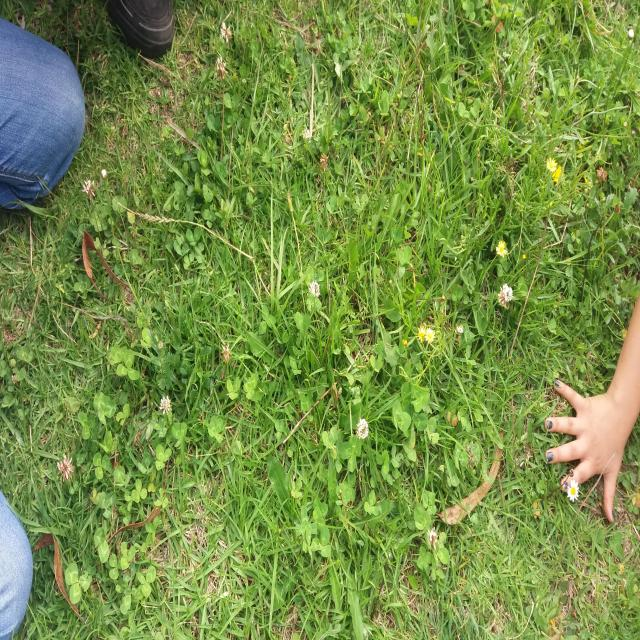Four Leaf Clover: (302, 525, 322, 559), (417, 546, 433, 576), (89, 209, 108, 232), (74, 274, 91, 299), (197, 150, 211, 176), (291, 478, 302, 498), (183, 253, 195, 270)
